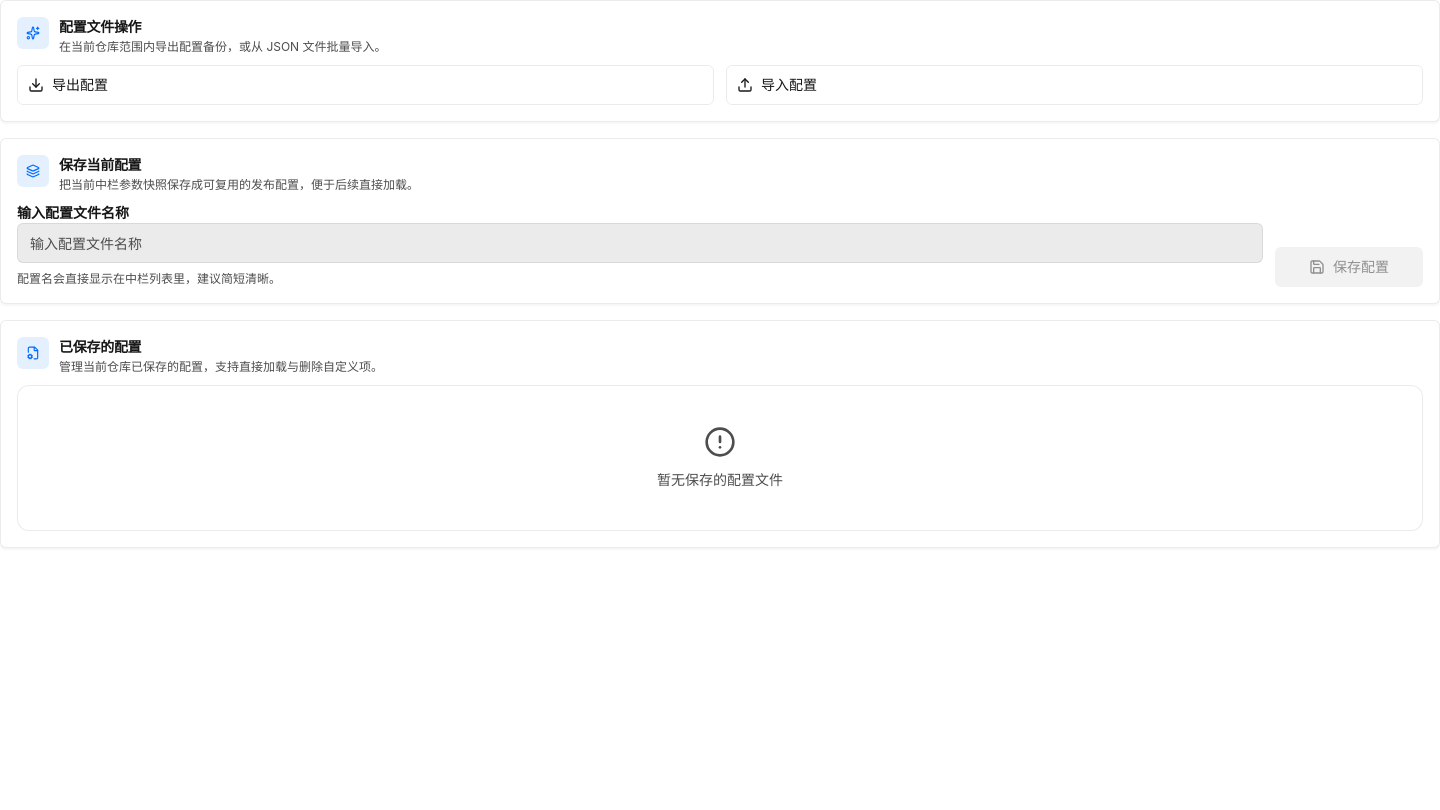
it: ConfigManagementContent › 仓库未声明 Provider 时不标记 Provider 不一致
The image size is (1440, 810).
Click the button "导入配置" at coordinates (789, 84), box top-left (726, 65), bottom-right (1423, 105)
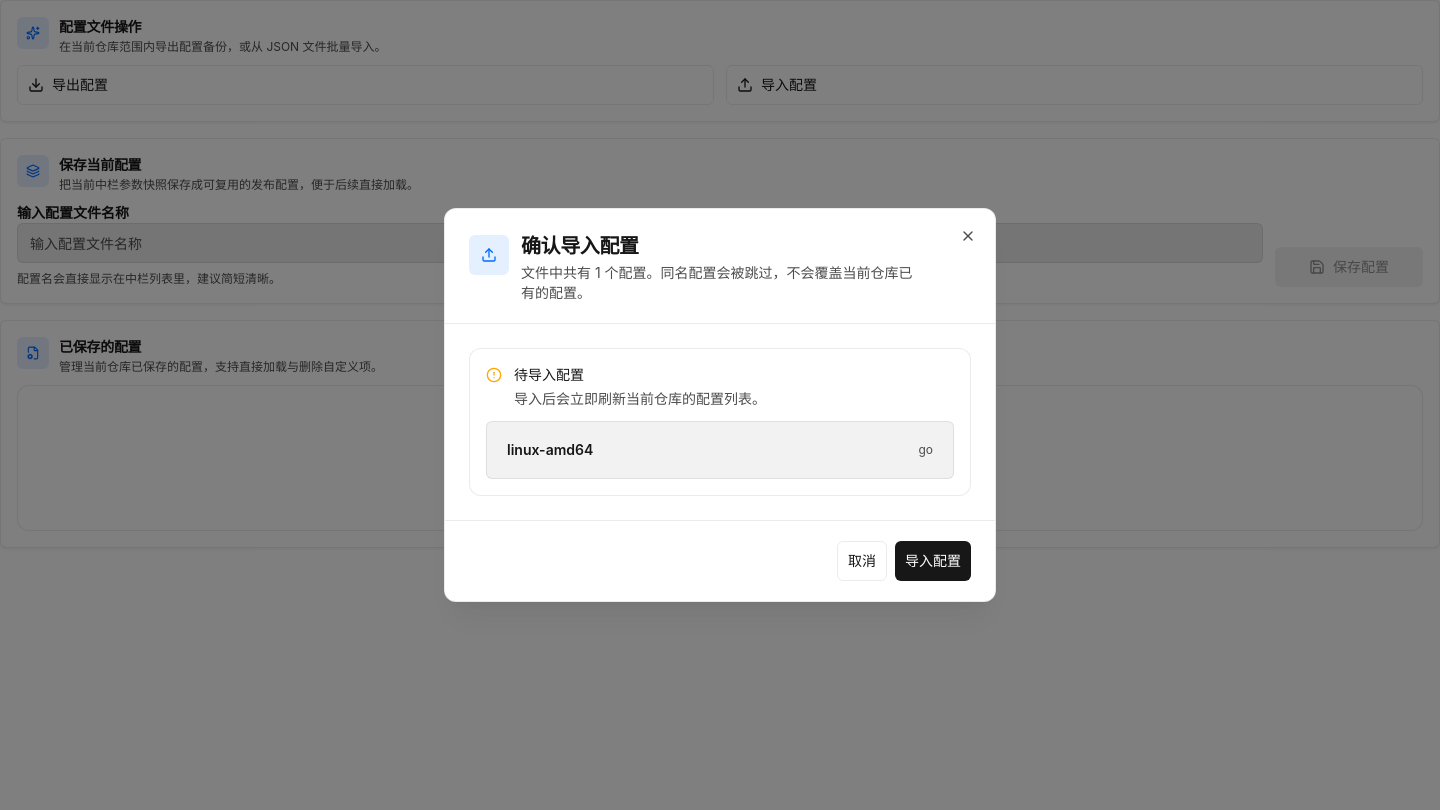
expect the heading "确认导入配置" is shown: met, box top-left (521, 234), bottom-right (639, 258)
expect the button "导入配置" is enabled: met, box top-left (895, 541), bottom-right (971, 581)
